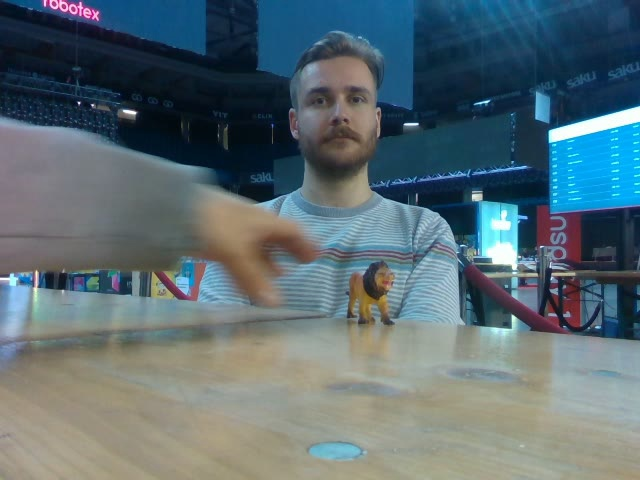toy: (345, 259, 394, 326)
